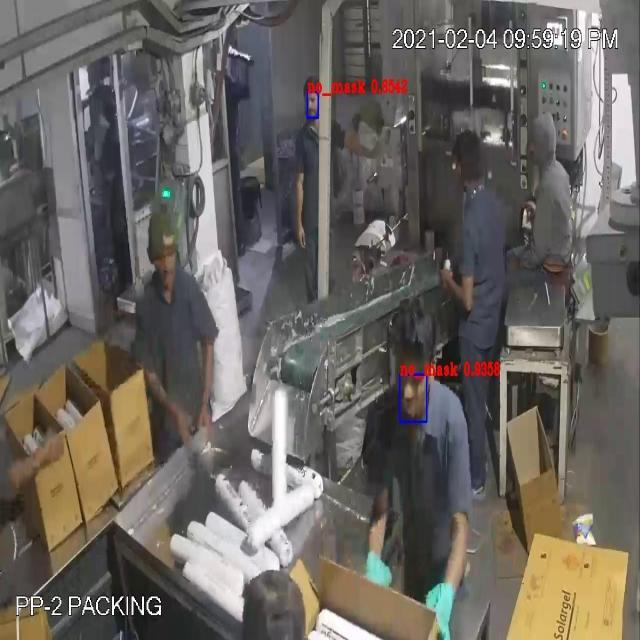No_Gloves: (20, 56, 458, 464)
